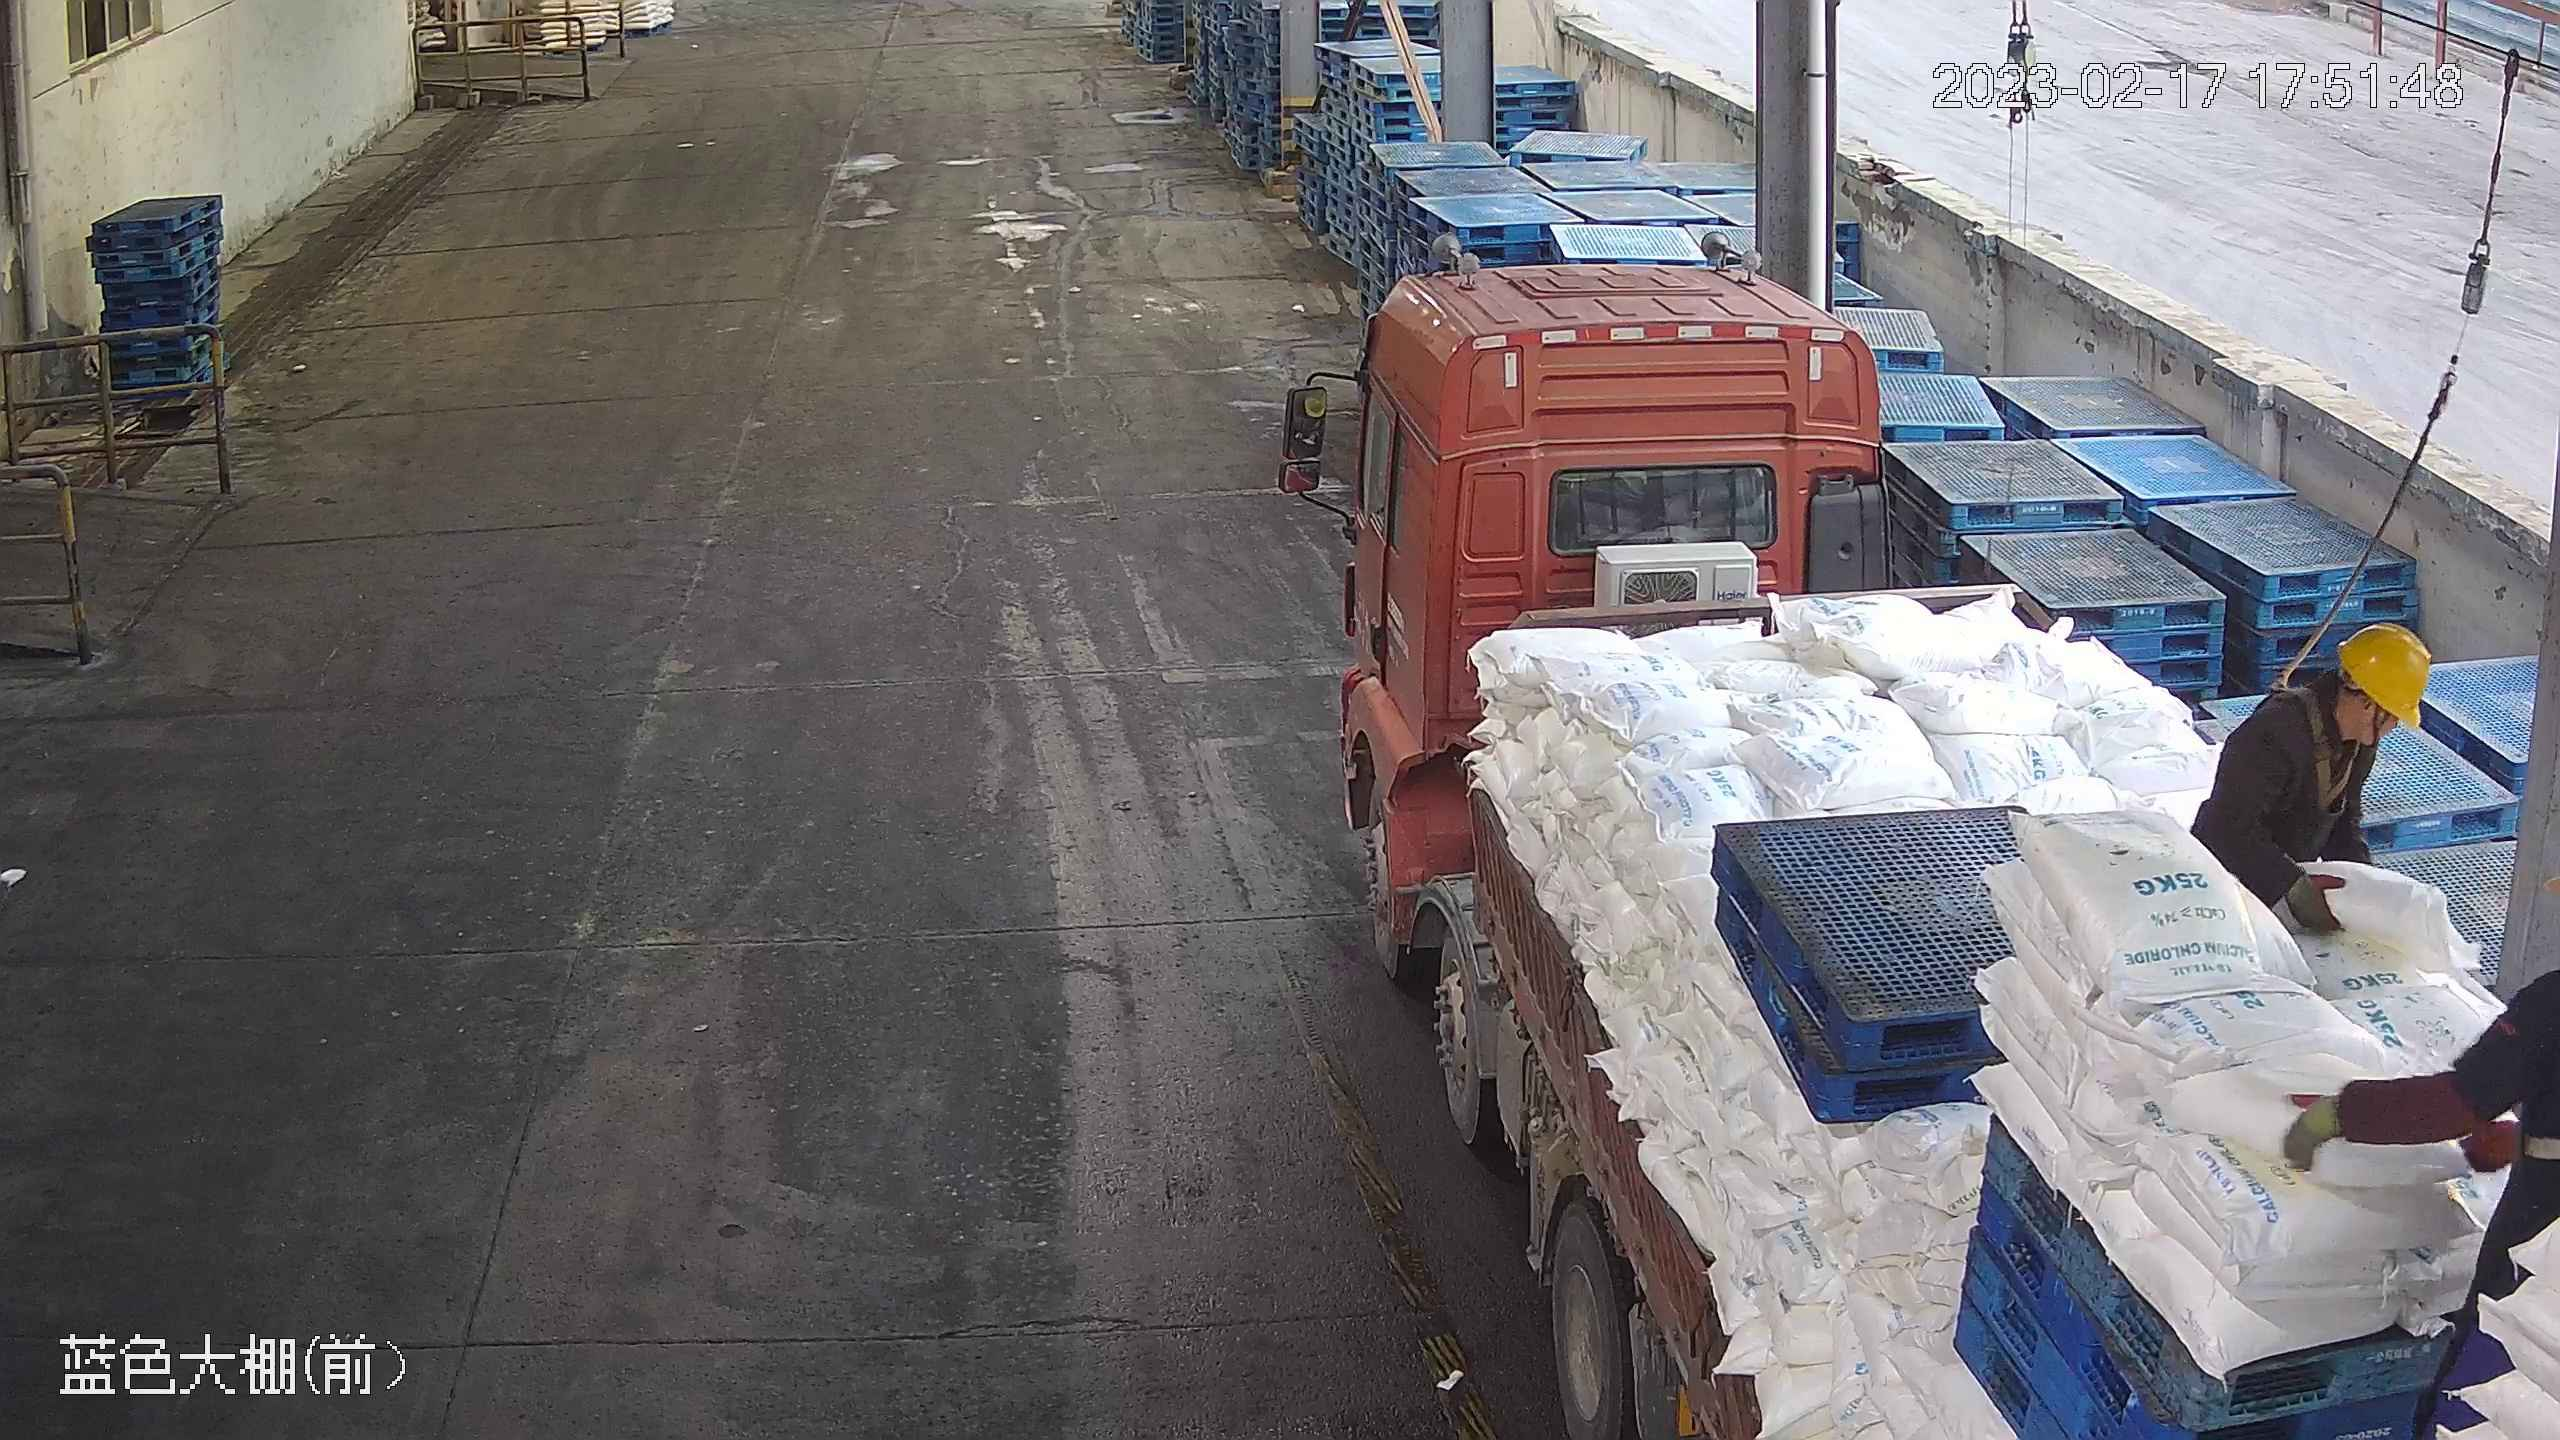belt: (2269, 684, 2371, 818)
head: (2246, 622, 2431, 781)
helmet: (2336, 619, 2431, 727)
people: (2190, 620, 2429, 945)
truck: (1281, 227, 2556, 1440)
